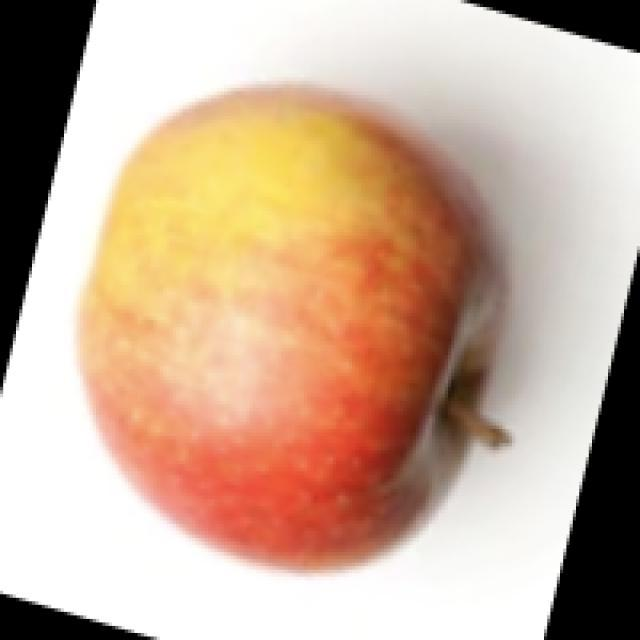Fresh Apple: (112, 90, 488, 577)
